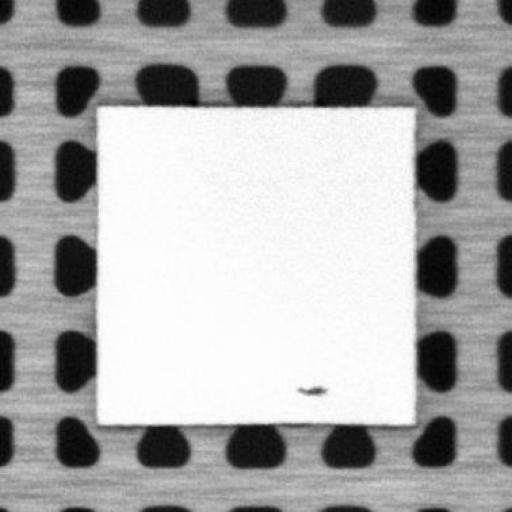DIE_INK: (294, 382, 328, 396)
